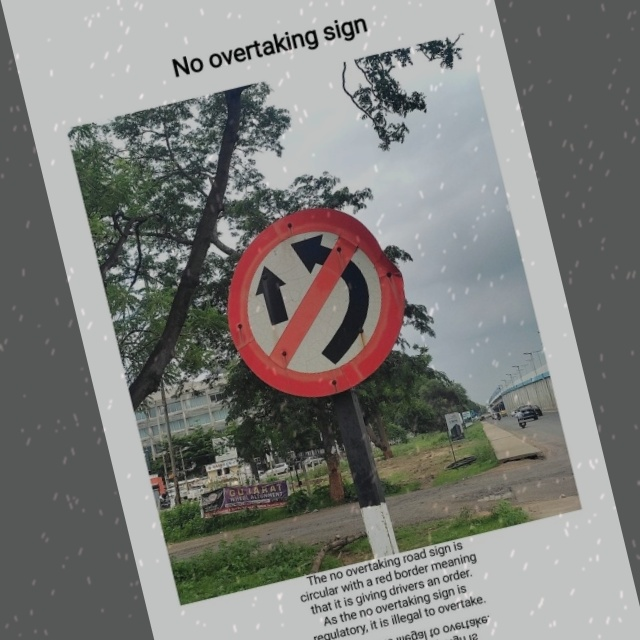Overtaking_Prohibited: (211, 189, 423, 414)
